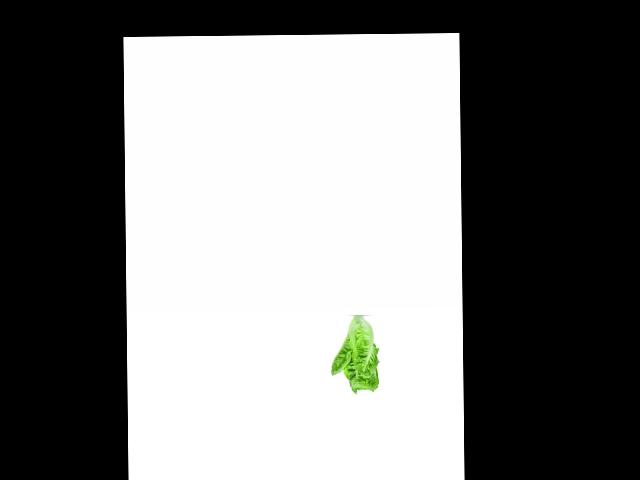lettuce: (330, 318, 382, 395)
